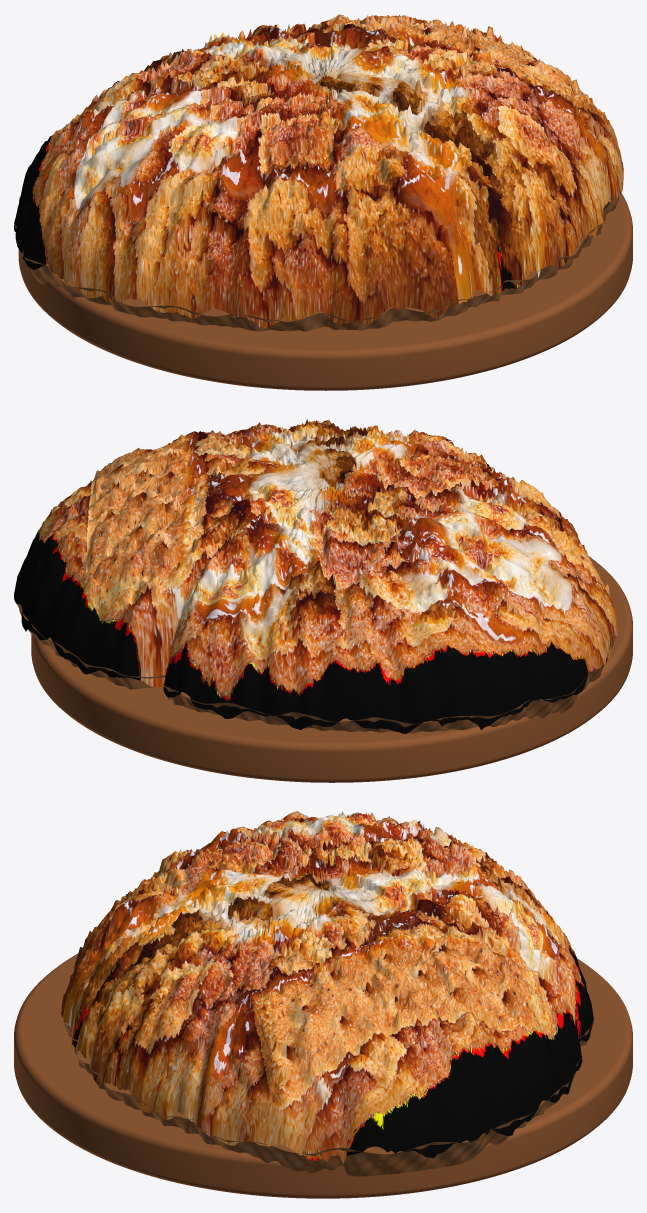
The model's file is cookie-maple-pumpkin.glb.
The picture shows the model from 3 angles, top to bottom: view 1: azimuth 30°, elevation 25°; view 2: azimuth 150°, elevation 25°; view 3: azimuth 270°, elevation 25°; orthographic projection. The views are drawn at different scales.
Parts seen in each view (by area): view 1: Cookie top | pumpkin spice, marshmallow, maple, Cookie underside | toasted base, Cookie side | baked pumpkin crumb; view 2: Cookie top | pumpkin spice, marshmallow, maple, Cookie underside | toasted base, Cookie side | baked pumpkin crumb; view 3: Cookie top | pumpkin spice, marshmallow, maple, Cookie underside | toasted base, Cookie side | baked pumpkin crumb.
Part boxes in pixels (x1=…): Cookie top | pumpkin spice, marshmallow, maple: x1=14, y1=14, x2=623, y2=328; Cookie underside | toasted base: x1=18, y1=192, x2=632, y2=390; Cookie side | baked pumpkin crumb: x1=14, y1=162, x2=623, y2=331; Cookie top | pumpkin spice, marshmallow, maple: x1=14, y1=419, x2=617, y2=733; Cookie underside | toasted base: x1=31, y1=556, x2=632, y2=782; Cookie side | baked pumpkin crumb: x1=14, y1=597, x2=616, y2=733; Cookie top | pumpkin spice, marshmallow, maple: x1=61, y1=811, x2=593, y2=1163; Cookie underside | toasted base: x1=14, y1=953, x2=632, y2=1198; Cookie side | baked pumpkin crumb: x1=61, y1=993, x2=593, y2=1176.
Size of the model in its own units: 0.0688 by 0.0227 by 0.066.
3 materials, 1 textured.
